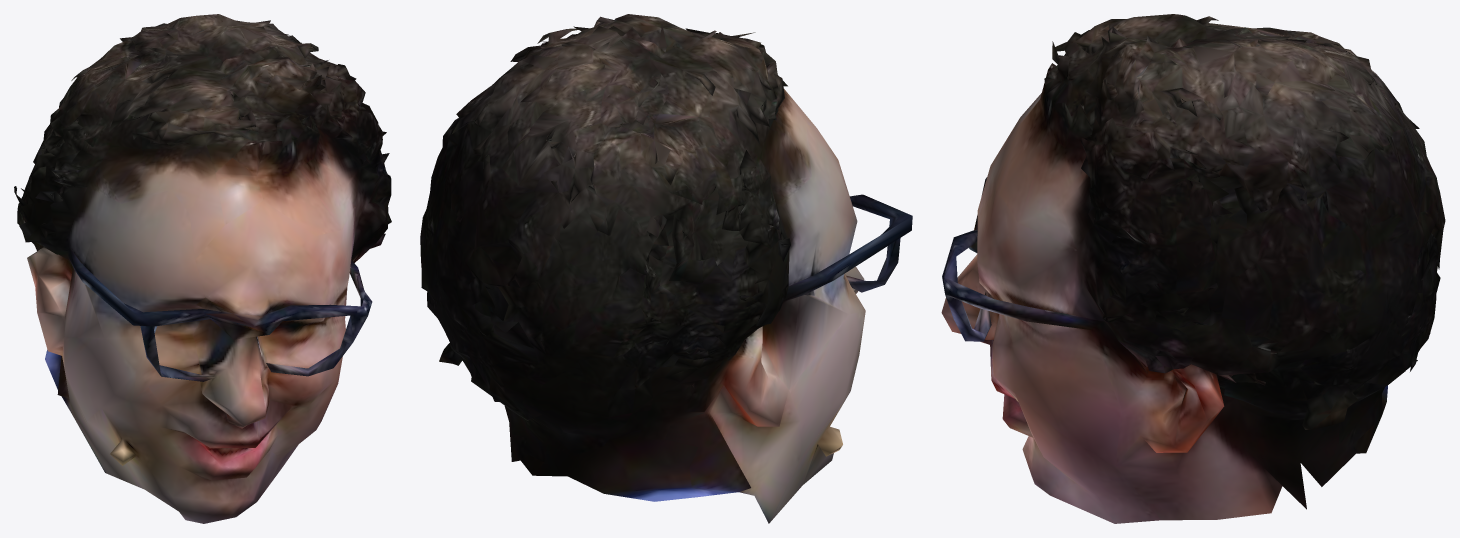
Rendered from dario-head.glb.
3 renders of one model, left to right at view 1: azimuth 30°, elevation 25°; view 2: azimuth 150°, elevation 25°; view 3: azimuth 270°, elevation 25°, orthographic. The views are drawn at different scales.
Visible parts, largest first — view 1: dario_head; view 2: dario_head; view 3: dario_head.
Boxes of the visible parts, x1=… form: dario_head: x1=14, y1=14, x2=391, y2=523; dario_head: x1=420, y1=14, x2=912, y2=523; dario_head: x1=941, y1=14, x2=1445, y2=523.
Bounding box in the file's own units: 0.8235 × 1 × 0.931.
Materials: 1 (1 with a texture image).
